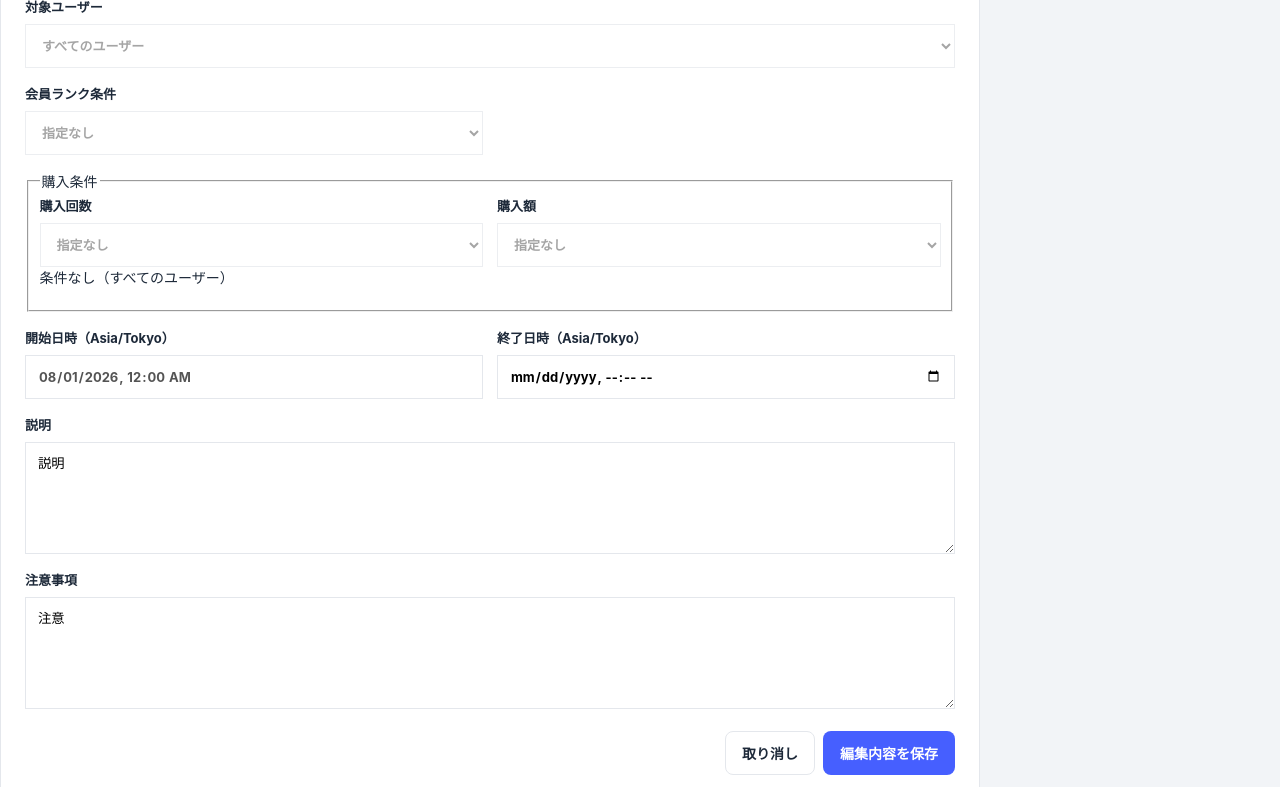
Scenario: Gacha lifecycle editing › shows a mapped unpublish error without Request ID or internal code
(page scrolled)
Click the button "編集内容を保存" at (889, 753), box left=823, top=731, right=955, bottom=775
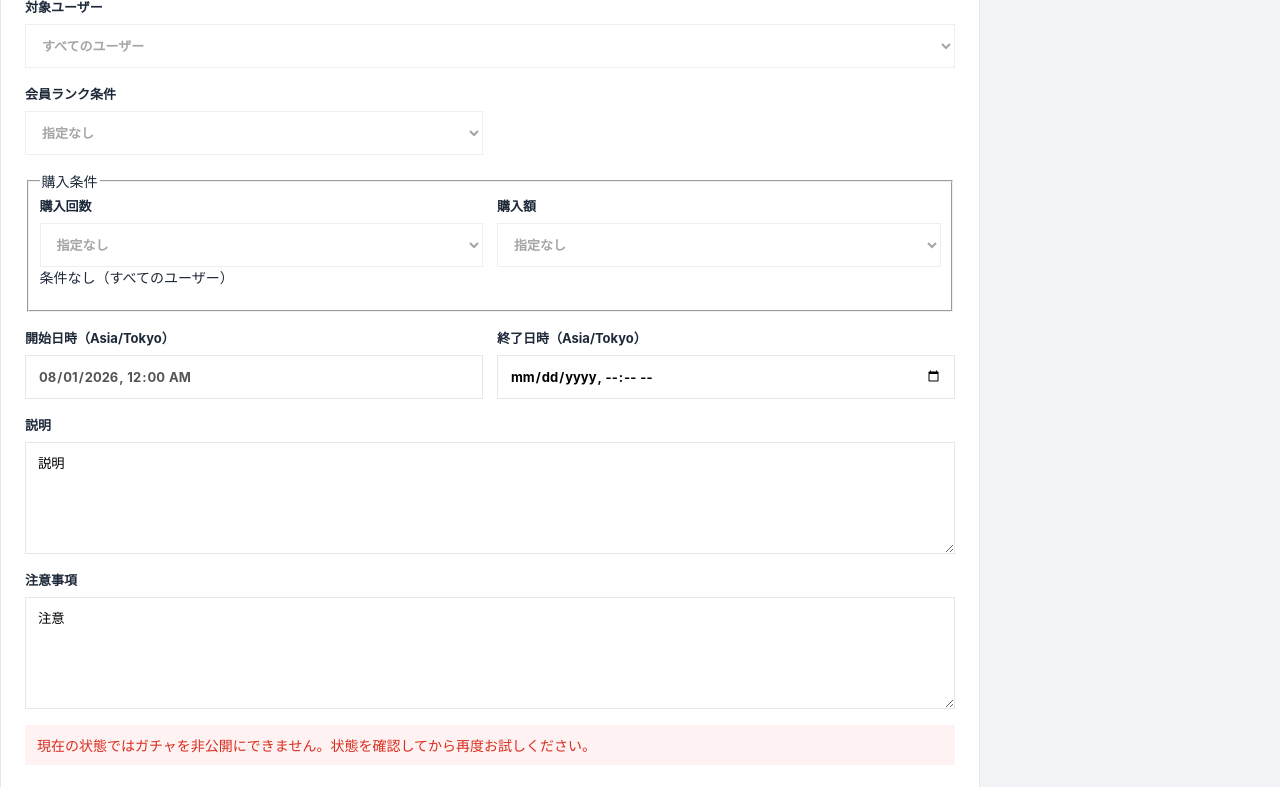
Expected: the text "現在の状態ではガチャを非公開にできません。状態を確認してから再度お試しください。" is shown, left=25, top=725, right=955, bottom=765
